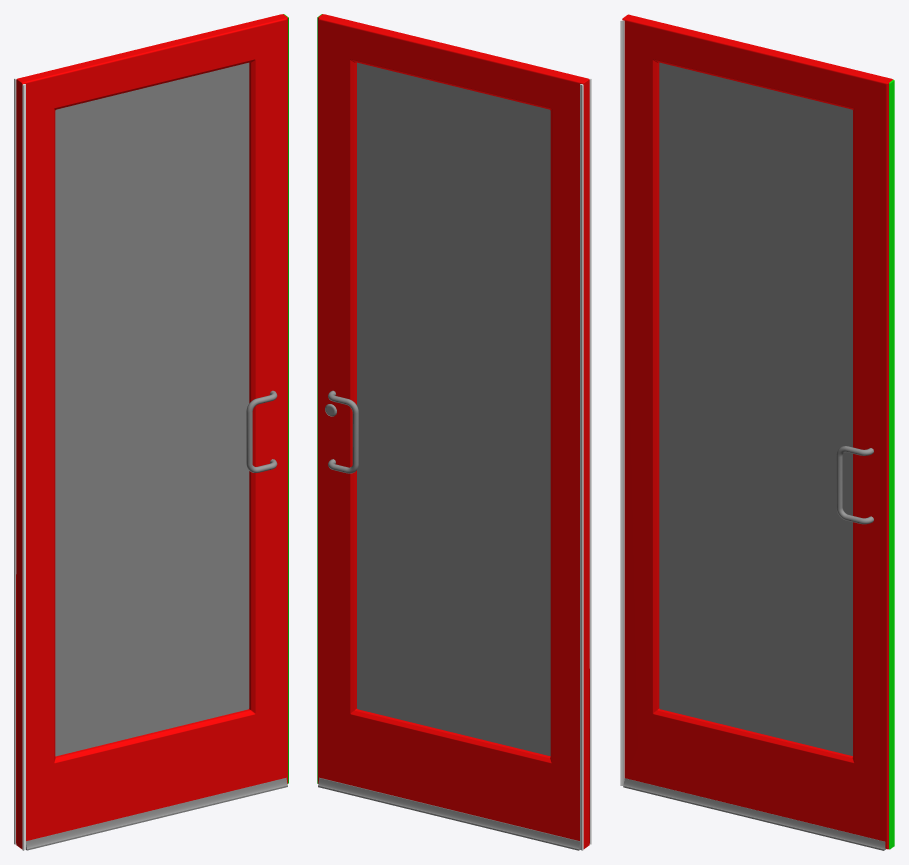
Rendered from DoubleDoor_Door.FBX.
The picture shows the model from 3 angles, left to right: view 1: azimuth 30°, elevation 25°; view 2: azimuth 150°, elevation 25°; view 3: azimuth 330°, elevation 25°; orthographic projection.
Visible parts, largest first — view 1: Plane009, Box027, Box029, Line011, Box031, Line016; view 2: Plane012, Box027, Box031, Line014, Box029, Line018; view 3: Plane009, Box027, Box029, Line011, Line016.
Boxes of the visible parts, x1,y1,x2,y2 form: Plane009: [55, 62, 249, 756]; Box027: [16, 14, 288, 848]; Box029: [22, 84, 25, 850]; Line011: [26, 777, 287, 850]; Box031: [14, 78, 17, 844]; Line016: [246, 390, 277, 472]; Plane012: [357, 62, 550, 756]; Box027: [317, 14, 589, 848]; Box031: [580, 84, 583, 850]; Line014: [318, 777, 579, 850]; Box029: [588, 78, 591, 844]; Line018: [328, 390, 358, 473]; Plane009: [659, 62, 852, 755]; Box027: [622, 14, 894, 849]; Box029: [620, 20, 624, 785]; Line011: [623, 778, 885, 850]; Line016: [836, 446, 873, 524].
Size of the model in its own units: 14.47 by 39.58 by 1.86.
